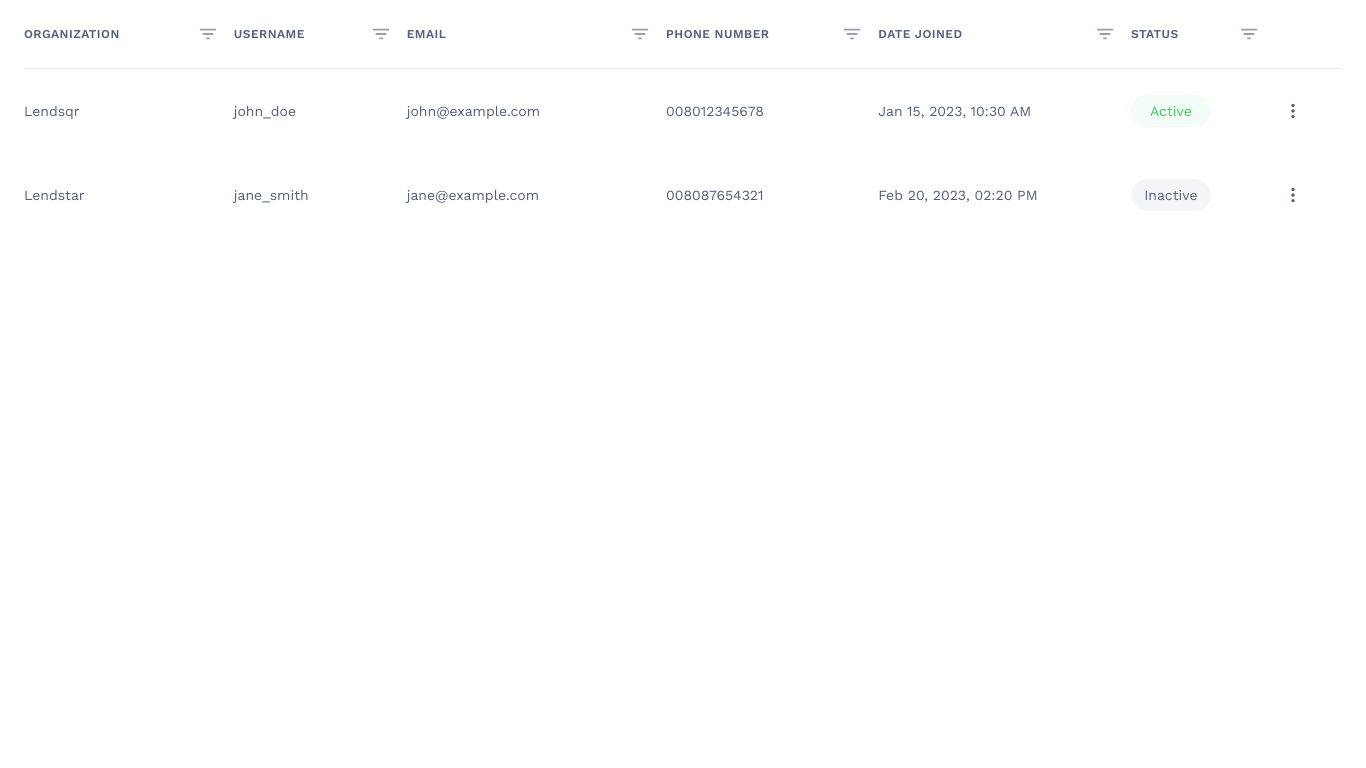
Test: UsersTable Component › Action Menu › closes action menu when clicking outside
Step 1. Click the button named "More actions" in the row of "Lendsqr" → (1293, 111), box [1275,93,1311,129]
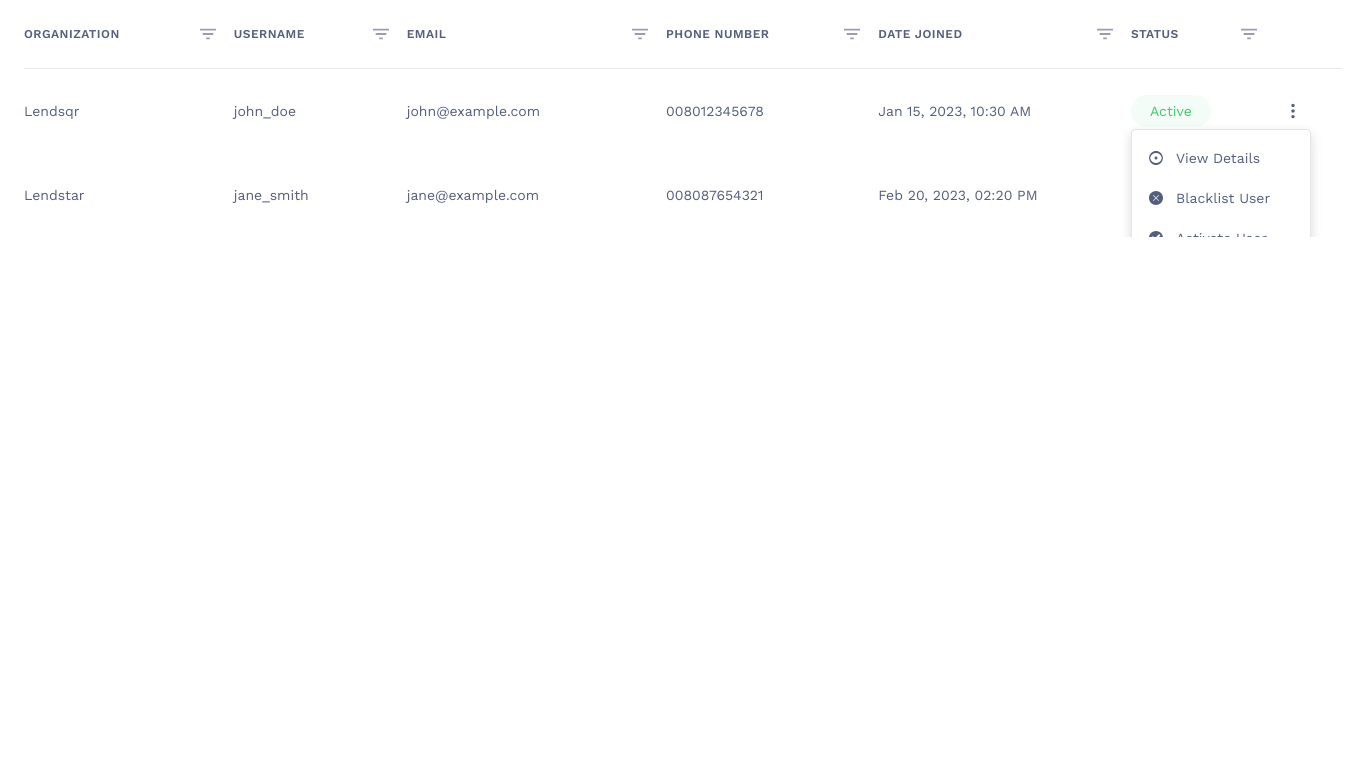
Now the button "View Details" is shown, box [1132,138,1310,178]
# Click outside
Step 2. Click the element that starts with "Organization" → (683, 384), box [0,0,1365,767]
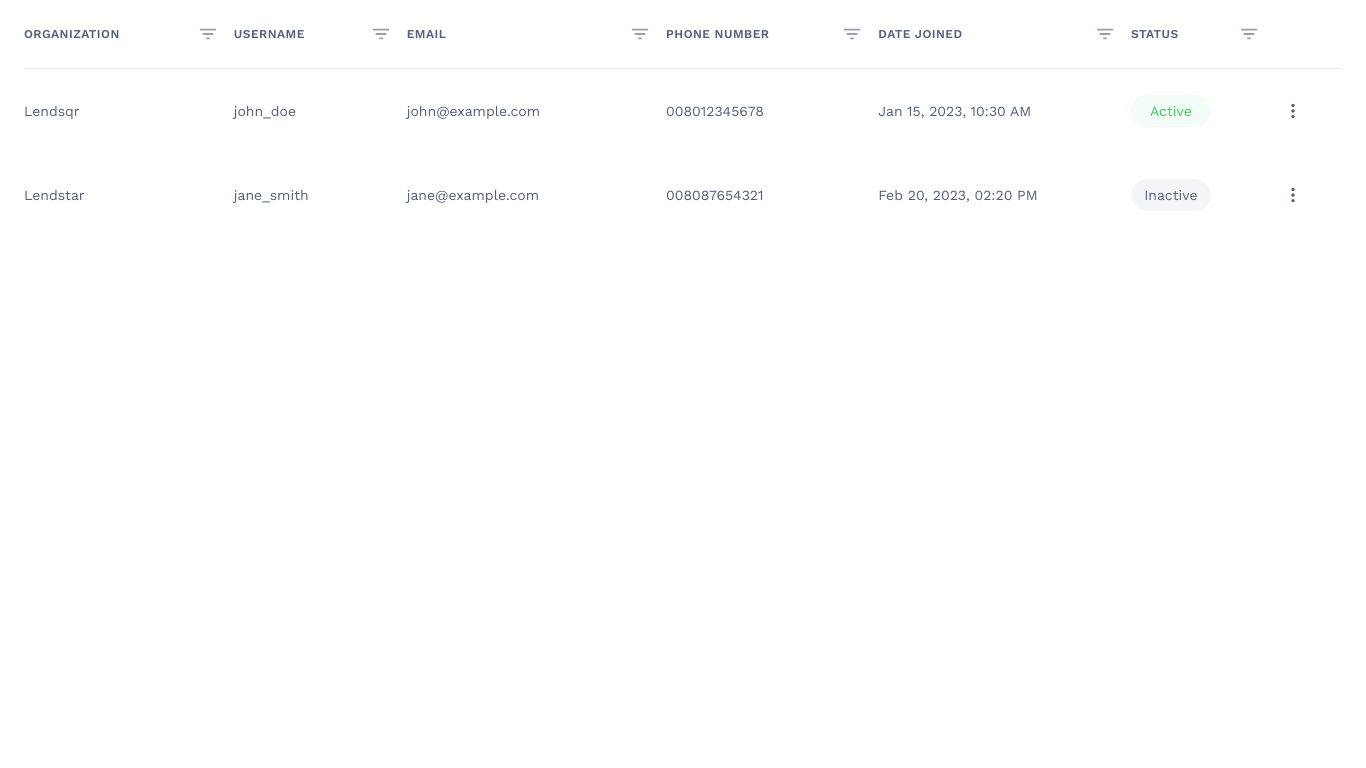
Now the button "View Details" is gone
